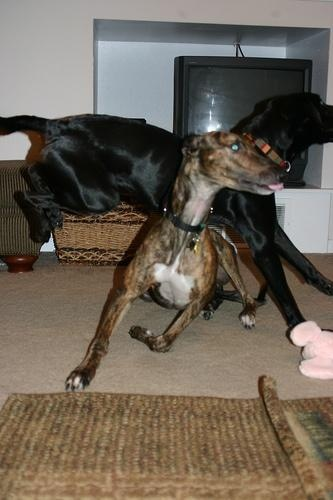dog: (2, 91, 333, 341), (64, 130, 287, 393)
tvmonitor: (174, 55, 317, 186)
